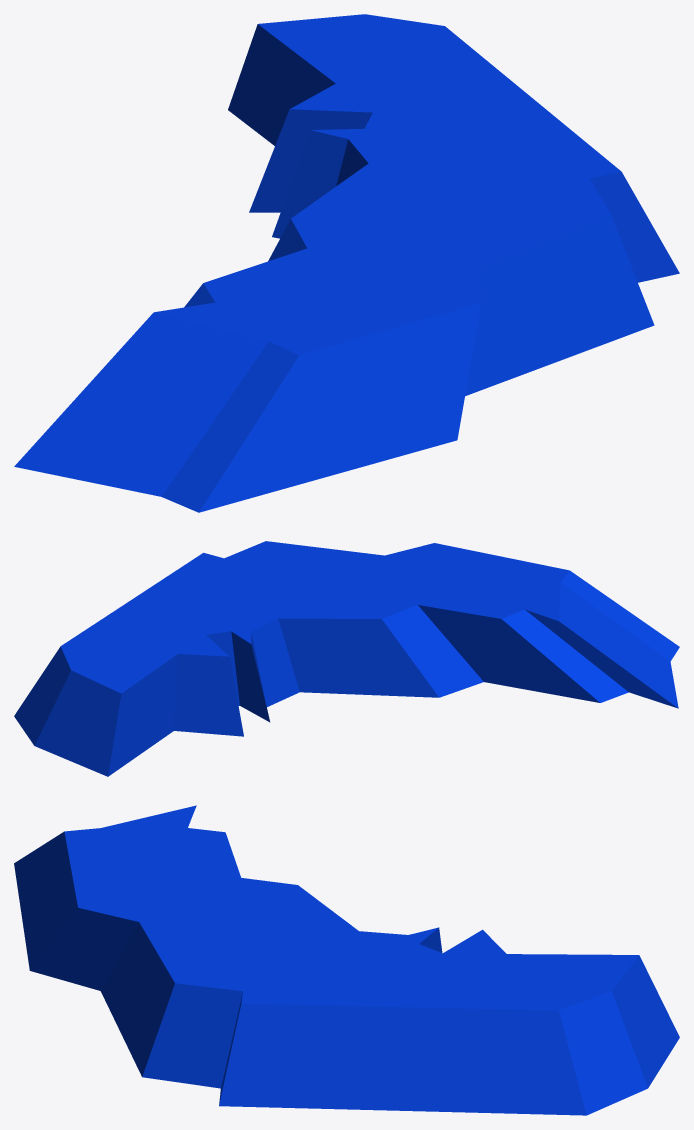
Rendered from magic_blue.fbx.
3 views of the same model, one above another, from view 1: azimuth 30°, elevation 25°; view 2: azimuth 150°, elevation 25°; view 3: azimuth 270°, elevation 25° (orthographic). The views are drawn at different scales.
Parts seen in each view (by area): view 1: 실린더.001; view 2: 실린더.001; view 3: 실린더.001.
Part boxes in pixels (x1,y1,x2,y2): 실린더.001: (14, 14, 679, 512); 실린더.001: (14, 541, 679, 776); 실린더.001: (14, 805, 679, 1115).
Bounding box in the file's own units: 194 × 26.44 × 189.
